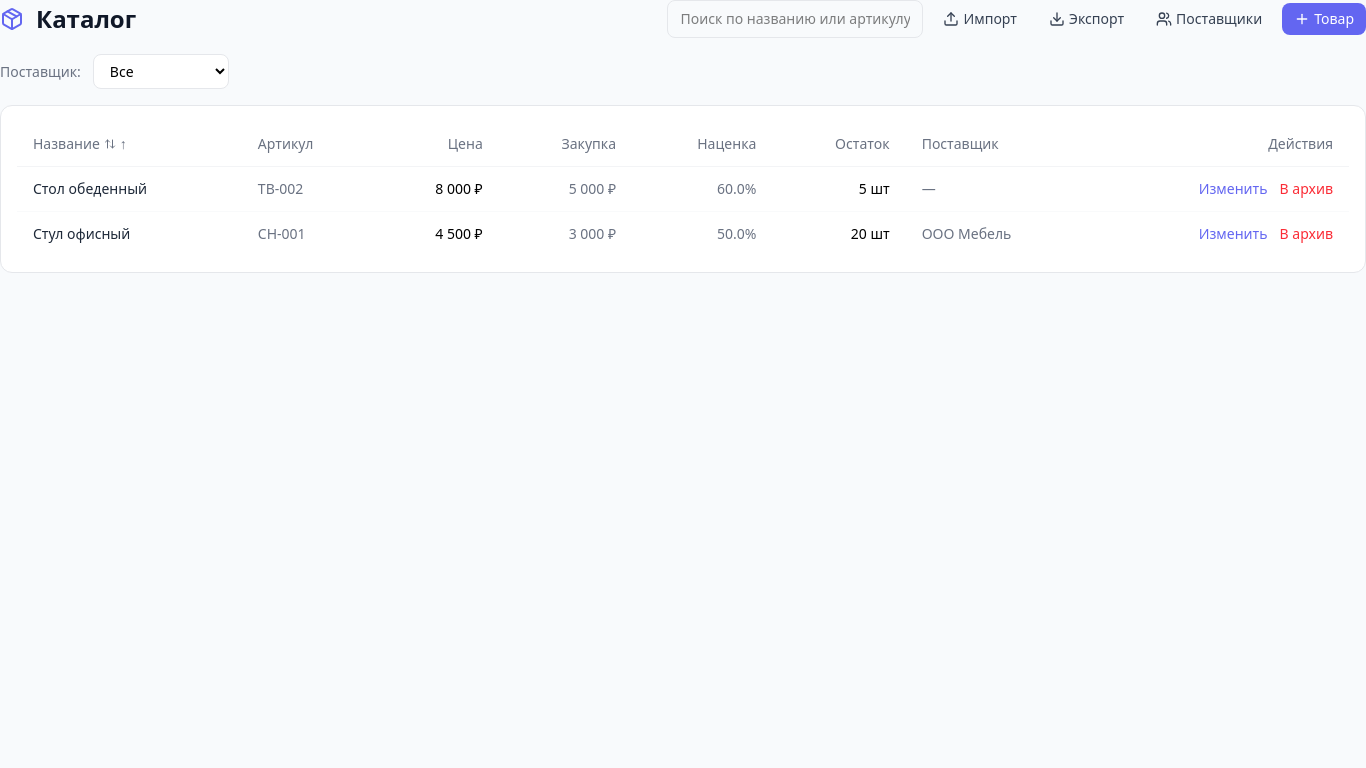
Products page › opens product form on create button
The image size is (1366, 768).
Expected: the text "Стул офисный" is shown, [17, 212, 242, 256]
What coordinates should you click on to do the following:
click the button "Товар"
I would click on:
 (1324, 19)
Its box is [1282, 3, 1365, 35].
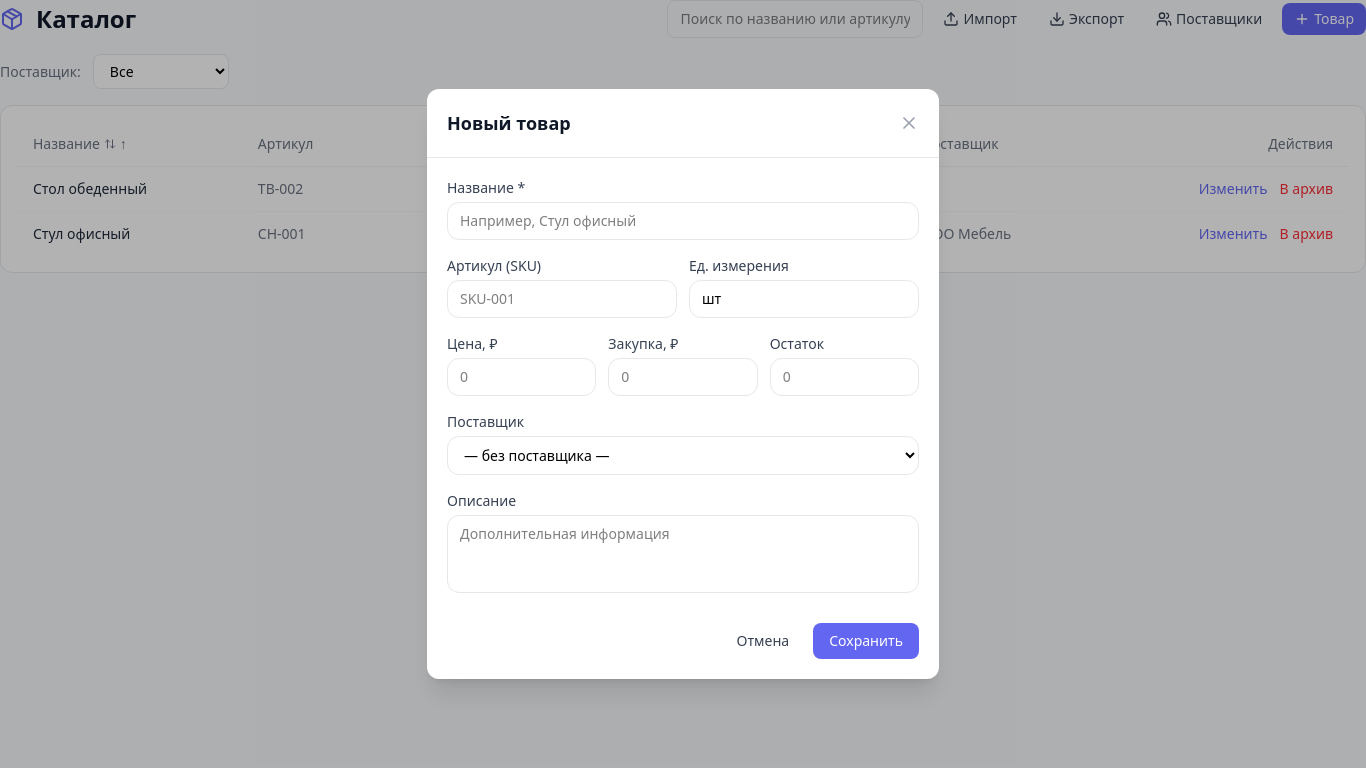
Result: the heading "Новый товар" is shown at [447, 109, 571, 137]
Result: the field labelled "Название *" is shown at [447, 202, 919, 240]
